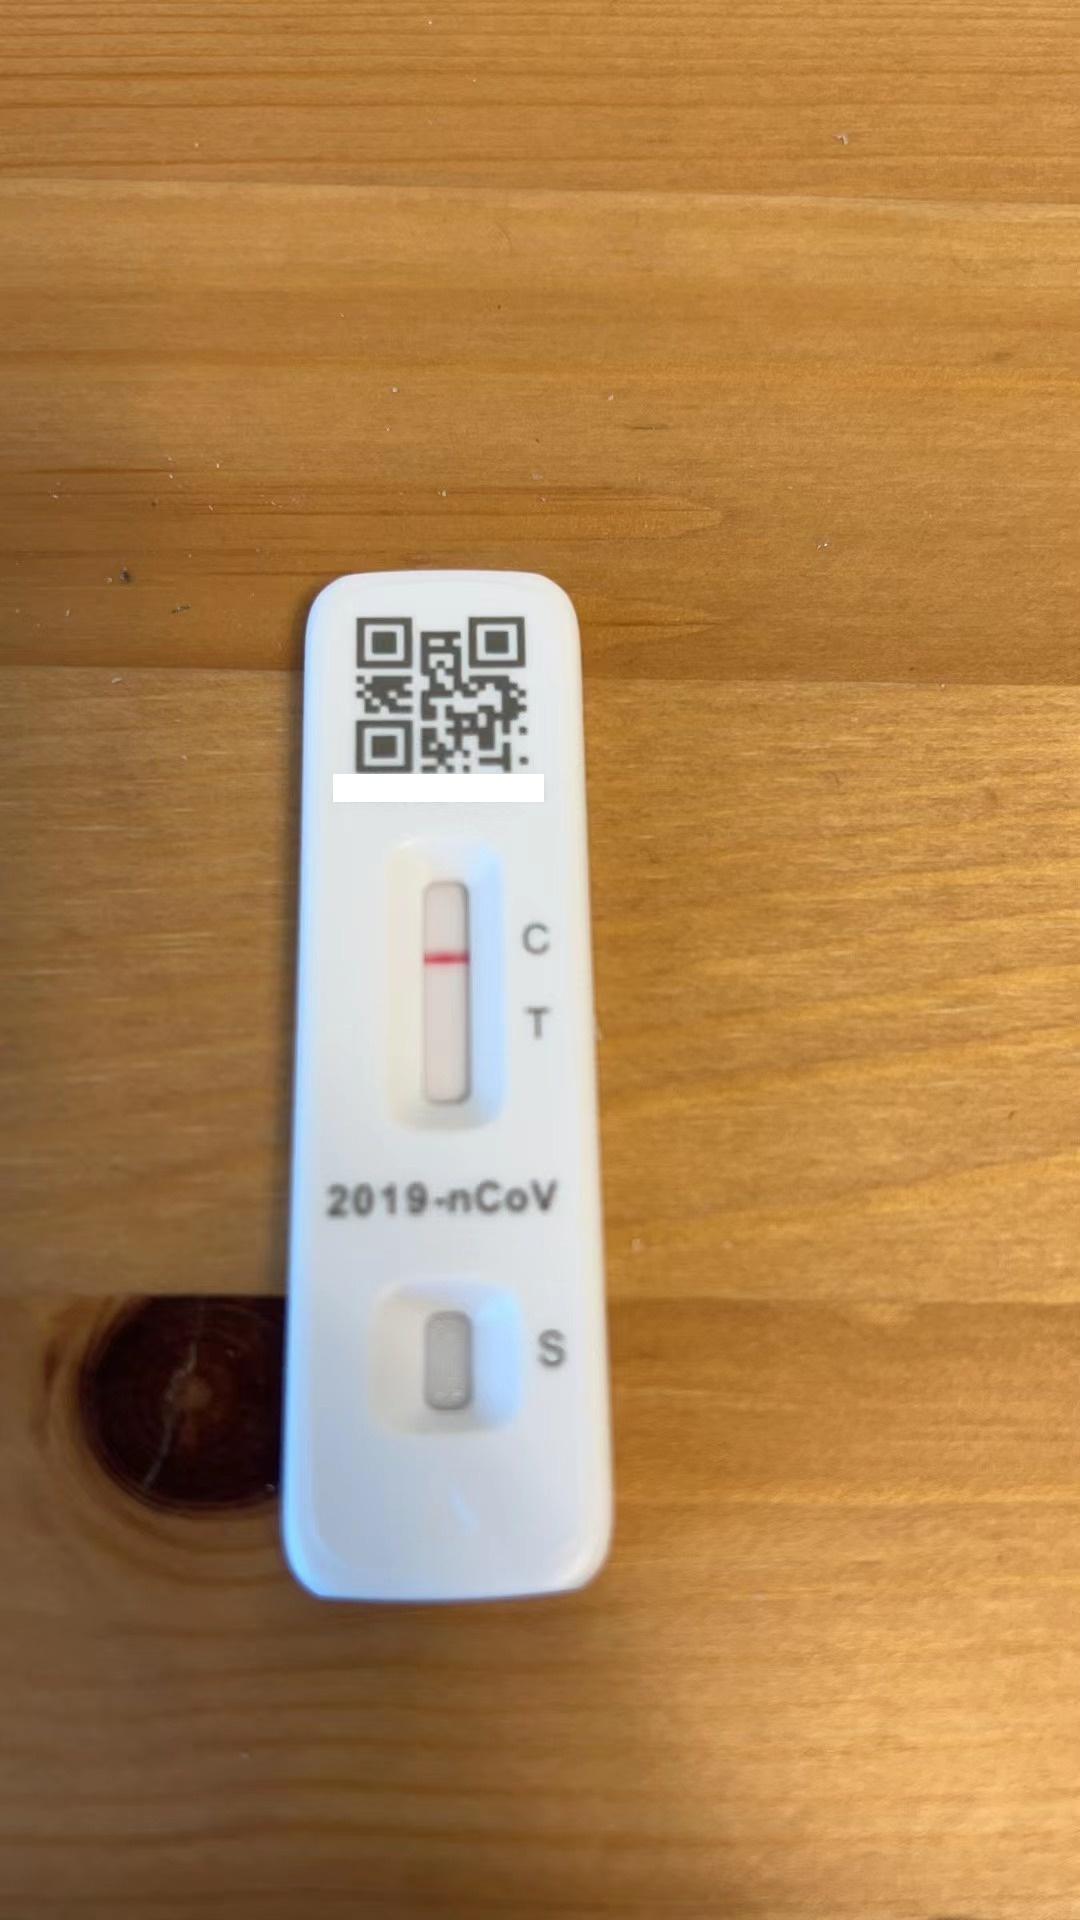negative: (396, 847, 493, 1141)
